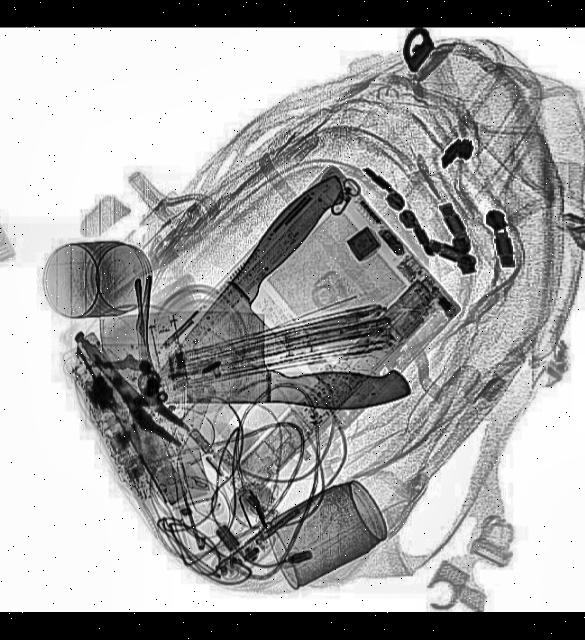Knife: (118, 165, 396, 478), (100, 310, 411, 411)
